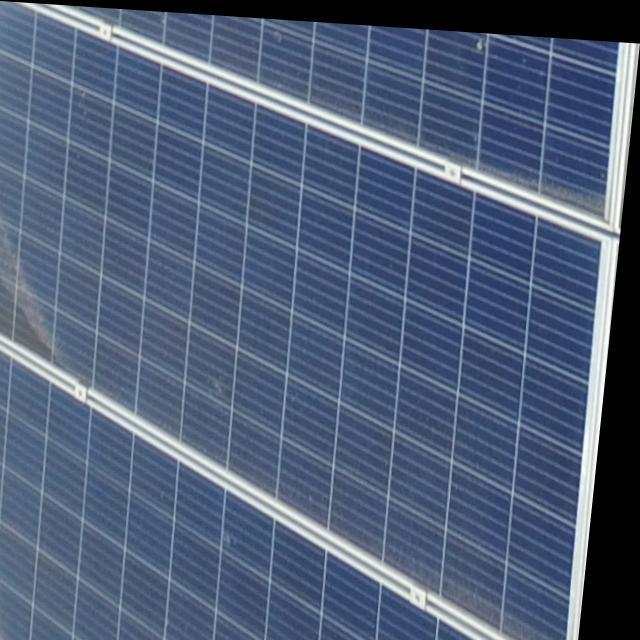Surface Contaminant: (0, 1, 597, 639), (57, 0, 617, 222)
